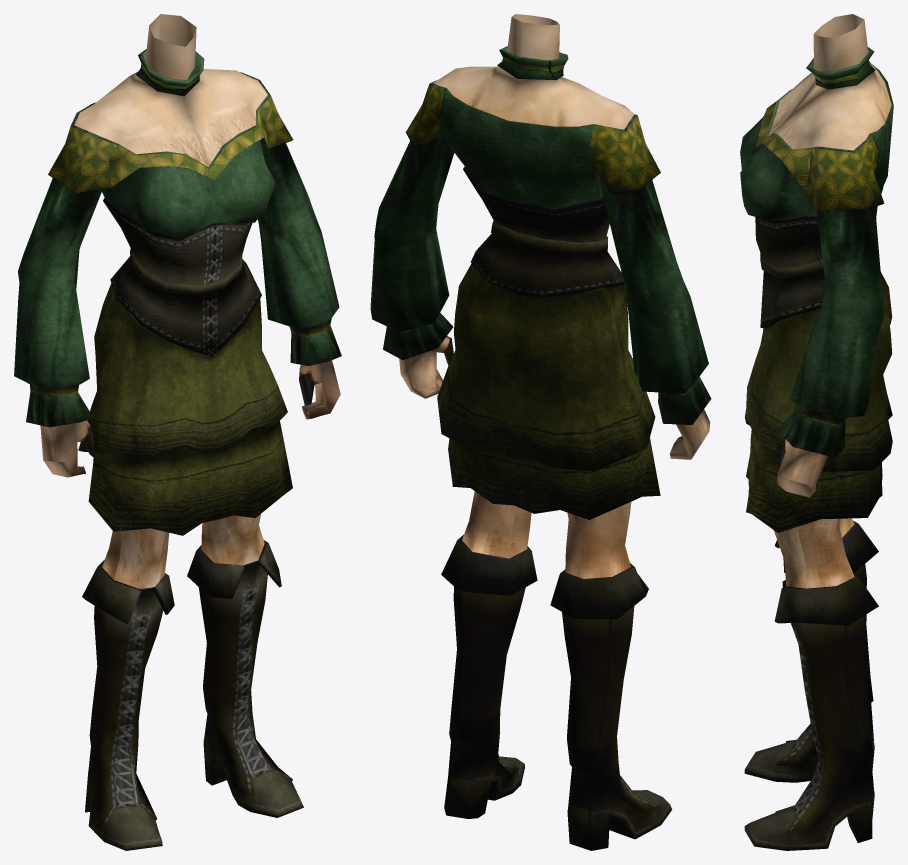
The model's file is GS_SLAV_BABE_05_KOZA.glb.
The picture shows the model from 3 angles, left to right: view 1: azimuth 30°, elevation 25°; view 2: azimuth 150°, elevation 25°; view 3: azimuth 270°, elevation 25°; orthographic projection. The views are drawn at different scales.
Parts seen in each view (by area): view 1: GS_SLAV_BABE_05_KOZA; view 2: GS_SLAV_BABE_05_KOZA; view 3: GS_SLAV_BABE_05_KOZA.
Part boxes in pixels (x1,y1,x2,y2): GS_SLAV_BABE_05_KOZA: (14, 14, 341, 850); GS_SLAV_BABE_05_KOZA: (370, 14, 711, 850); GS_SLAV_BABE_05_KOZA: (740, 14, 893, 850).
Size of the model in its own units: 0.6944 by 1.67 by 0.2963.
Materials: 2 (2 with a texture image).
